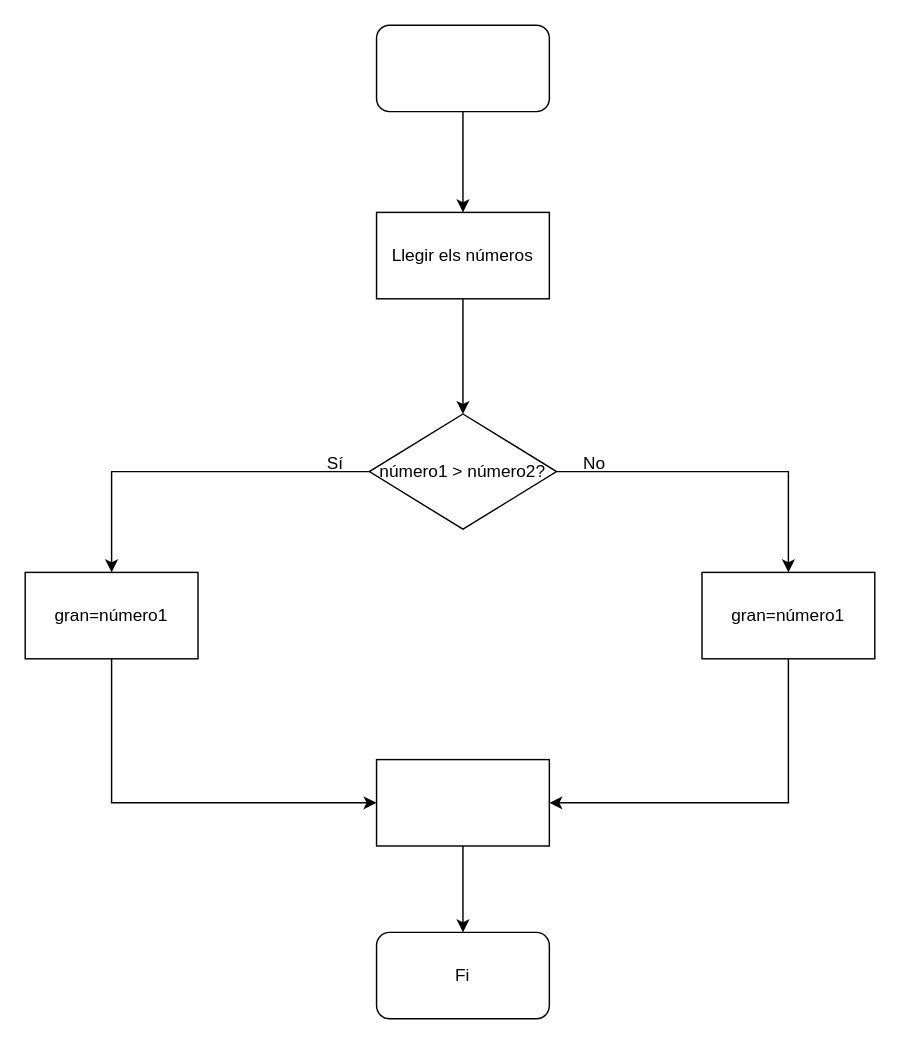
Some shapes in this 900 by 1044 pixel diagram are drawn without their labels. Each missing label, with the box of its shape:
Inici: (375, 24, 549, 112)
Mostrar el número més gran: (375, 758, 549, 846)
